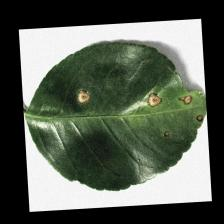canker: (74, 72, 206, 130)
